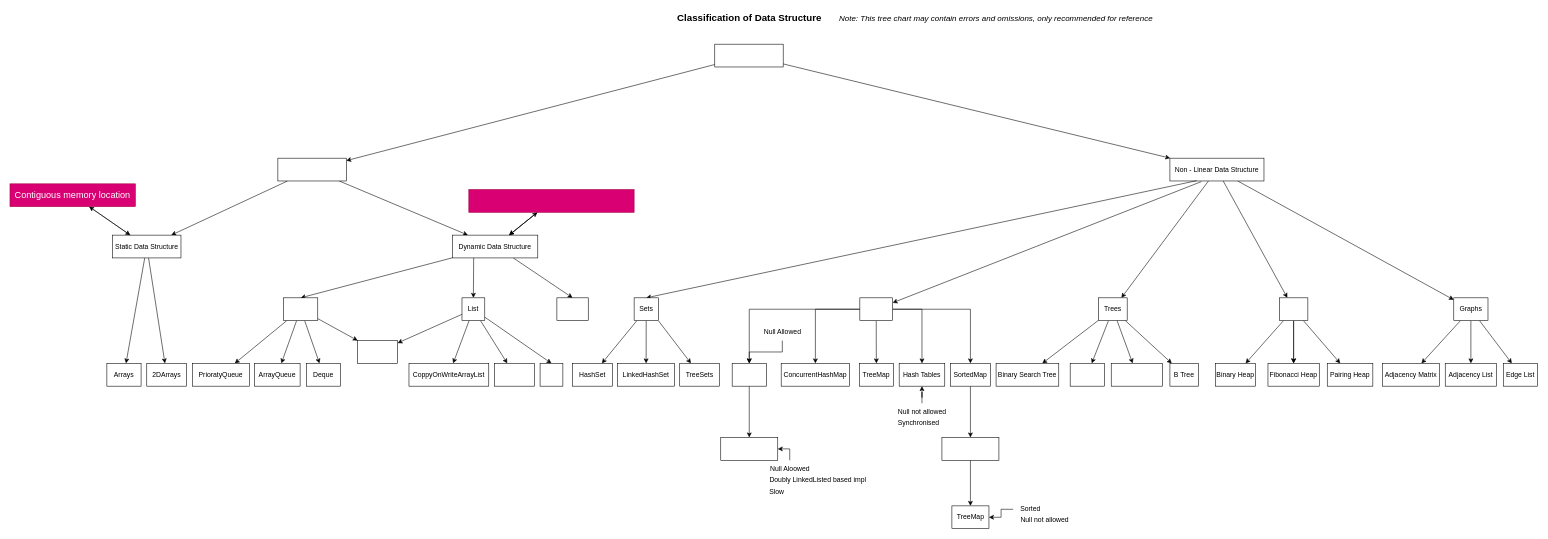
The diagram is 1548 pixels wide and 539 high, and some of its shapes have lost their labels. Here are the shapes that lost their labels. From the top down, the centre of each, then its label:
pixel 748 55: Data Structure
pixel 311 169: Linear Data Structure
pixel 551 200: A non-contiguous memory location
pixel 300 309: Queue
pixel 572 309: Stack
pixel 876 309: Map
pixel 1293 309: Heaps
pixel 377 351: LinkedList
pixel 514 374: ArrayList
pixel 551 374: Vector
pixel 749 374: HashMap
pixel 1087 374: AVL Tree
pixel 1137 374: Red Back Tree
pixel 749 448: LinkedHashMap
pixel 970 448: NaviagableMap
